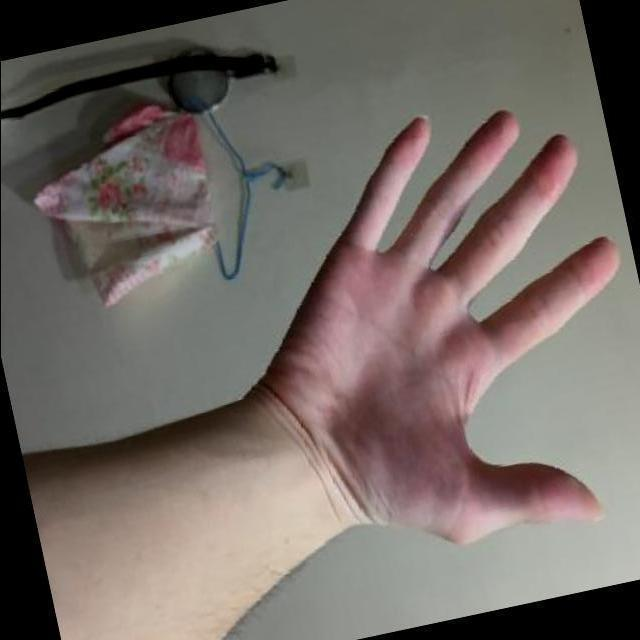hand: (193, 64, 640, 593)
